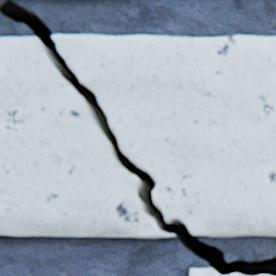broken_brick: (53, 35, 275, 237), (0, 38, 175, 238), (191, 268, 221, 275), (228, 273, 242, 275)
crack: (0, 0, 275, 275)
